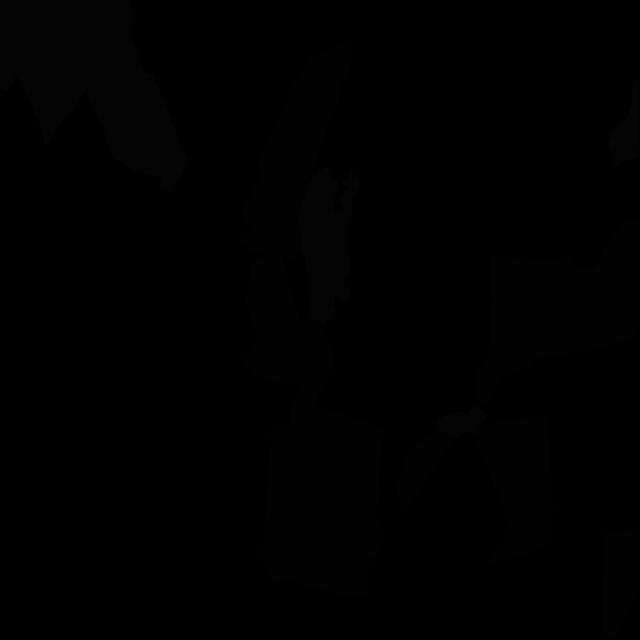cardboard: (475, 218, 640, 405), (239, 40, 352, 260), (263, 398, 384, 598), (242, 240, 336, 406), (474, 413, 554, 566), (396, 433, 458, 516), (602, 527, 640, 639)
soft_plastic: (298, 166, 362, 323), (608, 80, 640, 169), (435, 404, 487, 438)
